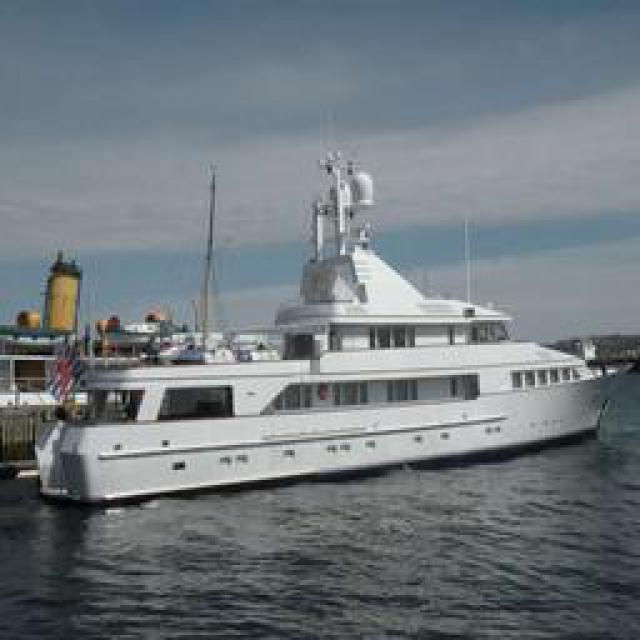Ship: (23, 136, 631, 501)
